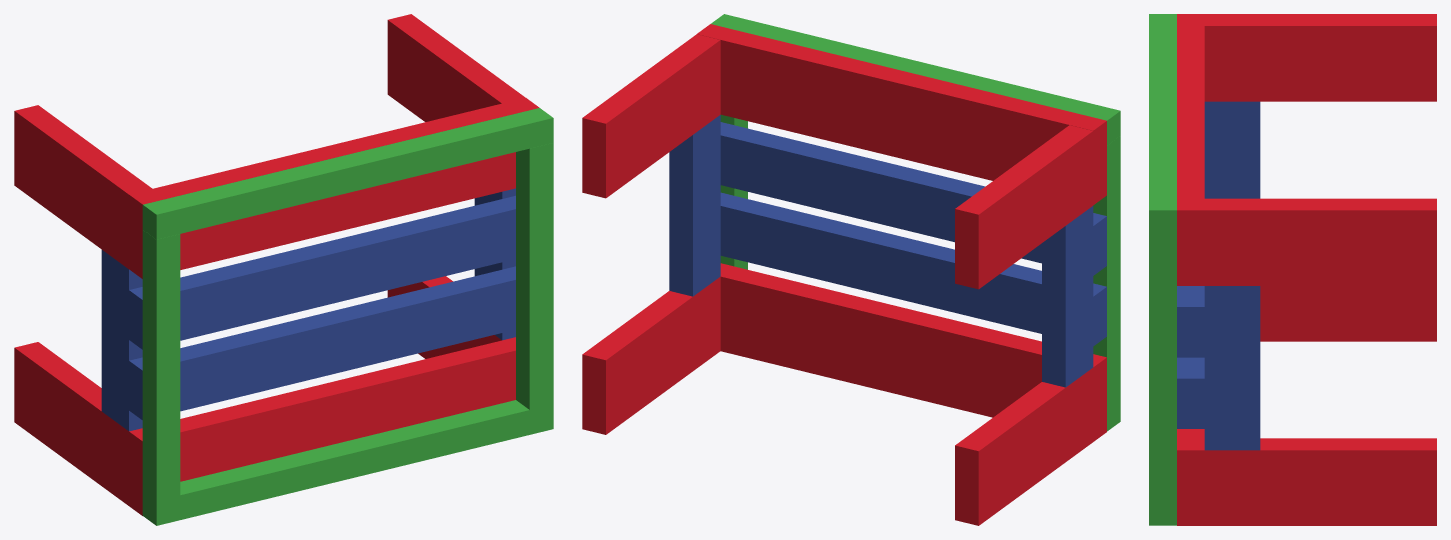
File: tinker.obj
3 views of the same model, side by side, from view 1: azimuth 30°, elevation 25°; view 2: azimuth 150°, elevation 25°; view 3: azimuth 270°, elevation 25° (orthographic).
Visible parts, largest first — view 1: group_0_15277357, group_0_4634441, group_0_3888547; view 2: group_0_15277357, group_0_3888547, group_0_4634441; view 3: group_0_15277357, group_0_3888547, group_0_4634441.
Boxes of the visible parts, bbox=[...] form: group_0_15277357: bbox=[14, 14, 539, 515]; group_0_4634441: bbox=[142, 108, 553, 525]; group_0_3888547: bbox=[101, 188, 515, 431]; group_0_15277357: bbox=[582, 24, 1106, 525]; group_0_3888547: bbox=[669, 115, 1106, 387]; group_0_4634441: bbox=[711, 14, 1120, 431]; group_0_15277357: bbox=[1177, 14, 1436, 525]; group_0_3888547: bbox=[1177, 101, 1260, 450]; group_0_4634441: bbox=[1149, 14, 1176, 525].
Size of the model in its own units: 200 by 150 by 124.
